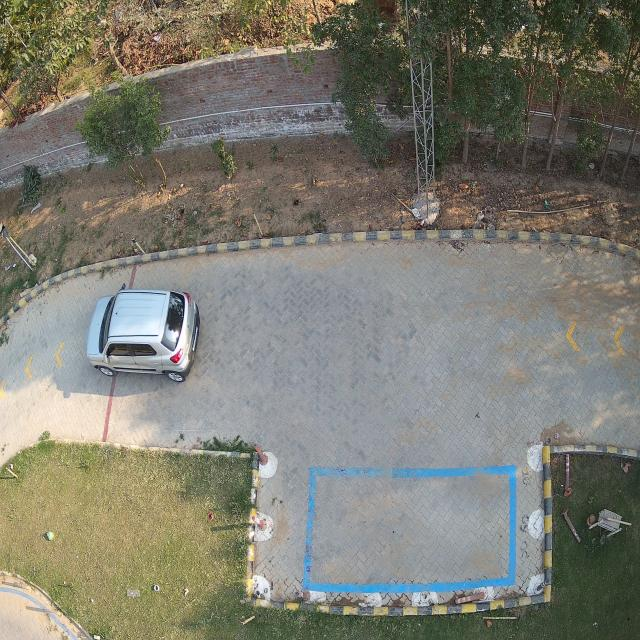car: (86, 288, 198, 383)
